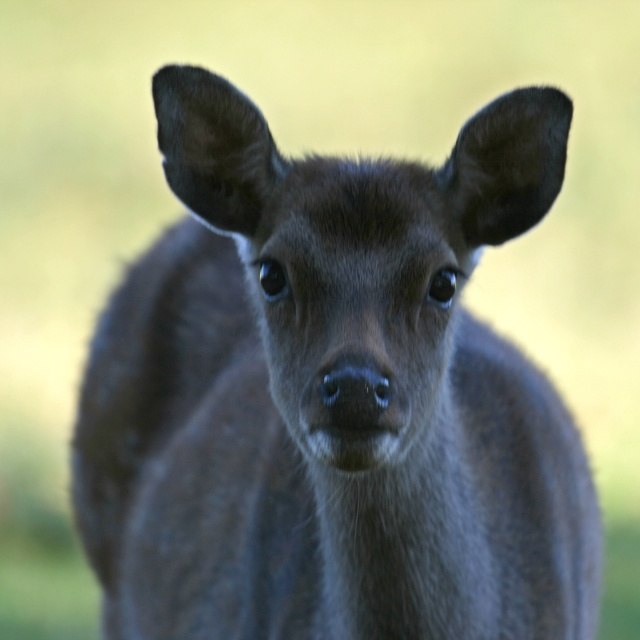Deer: (66, 68, 607, 638)
